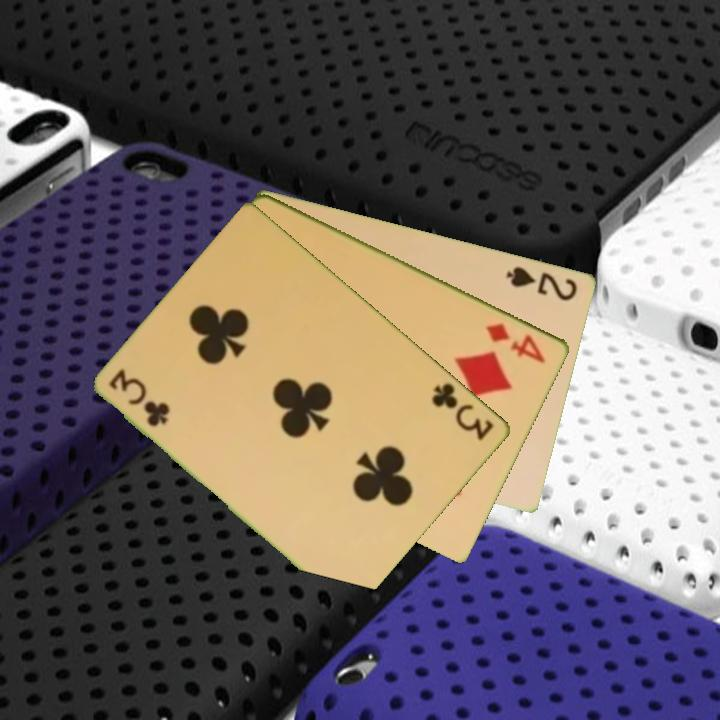2s: (503, 262, 581, 304)
3c: (428, 379, 497, 444), (106, 366, 173, 430)
4d: (483, 318, 549, 366)
